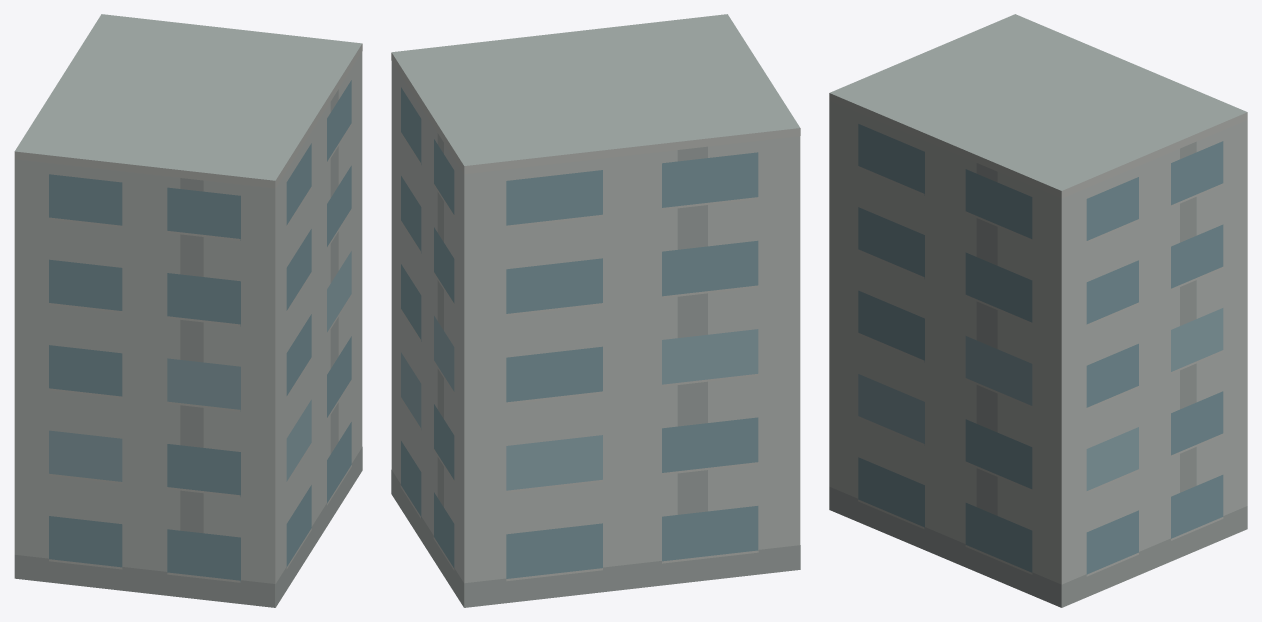
Rendered from survey-upis-32650457.glb.
The picture shows the model from 3 angles, left to right: view 1: azimuth 30°, elevation 25°; view 2: azimuth 150°, elevation 25°; view 3: azimuth 270°, elevation 25°; orthographic projection. The views are drawn at different scales.
Visible parts, largest first — view 1: survey-upis-32650457.tmp; view 2: survey-upis-32650457.tmp; view 3: survey-upis-32650457.tmp.
Part boxes in pixels (x1,y1,x2,y2): survey-upis-32650457.tmp: [14, 14, 362, 607]; survey-upis-32650457.tmp: [391, 14, 800, 607]; survey-upis-32650457.tmp: [829, 14, 1247, 607].
Size of the model in its own units: 12.03 by 13.2 by 12.01.
